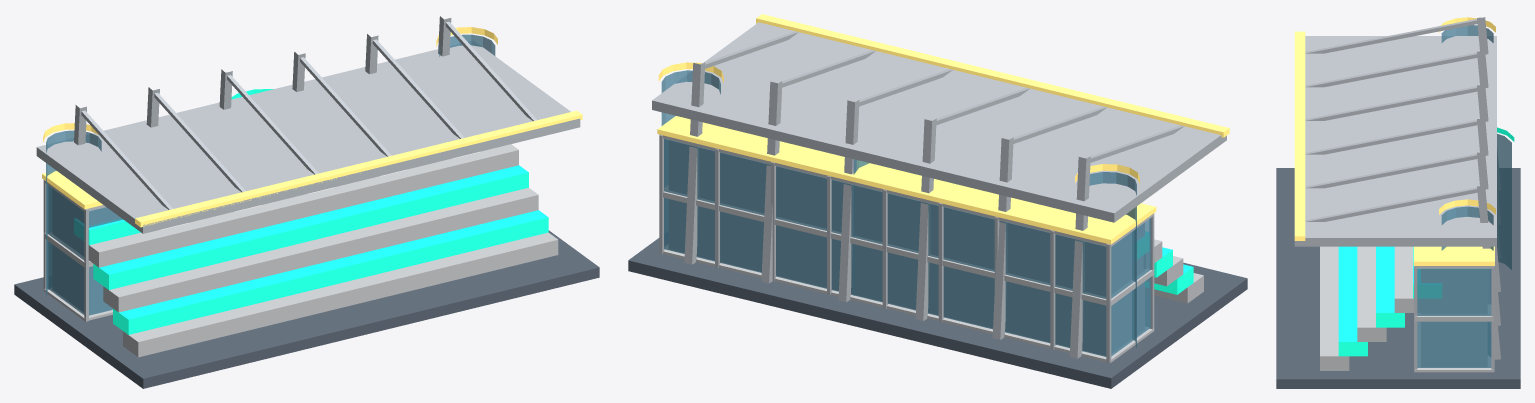
File: north_stand_expansion.glb
The picture shows the model from 3 angles, left to right: view 1: azimuth 30°, elevation 25°; view 2: azimuth 150°, elevation 25°; view 3: azimuth 270°, elevation 25°; orthographic projection. The views are drawn at different scales.
Visible parts, largest first — view 1: north_stand_expansion; view 2: north_stand_expansion; view 3: north_stand_expansion.
Boxes of the visible parts, bbox=[...] form: north_stand_expansion: bbox=[14, 16, 599, 388]; north_stand_expansion: bbox=[628, 14, 1247, 388]; north_stand_expansion: bbox=[1276, 17, 1520, 388].
Size of the model in its own units: 3.76 by 1.52 by 1.84.
